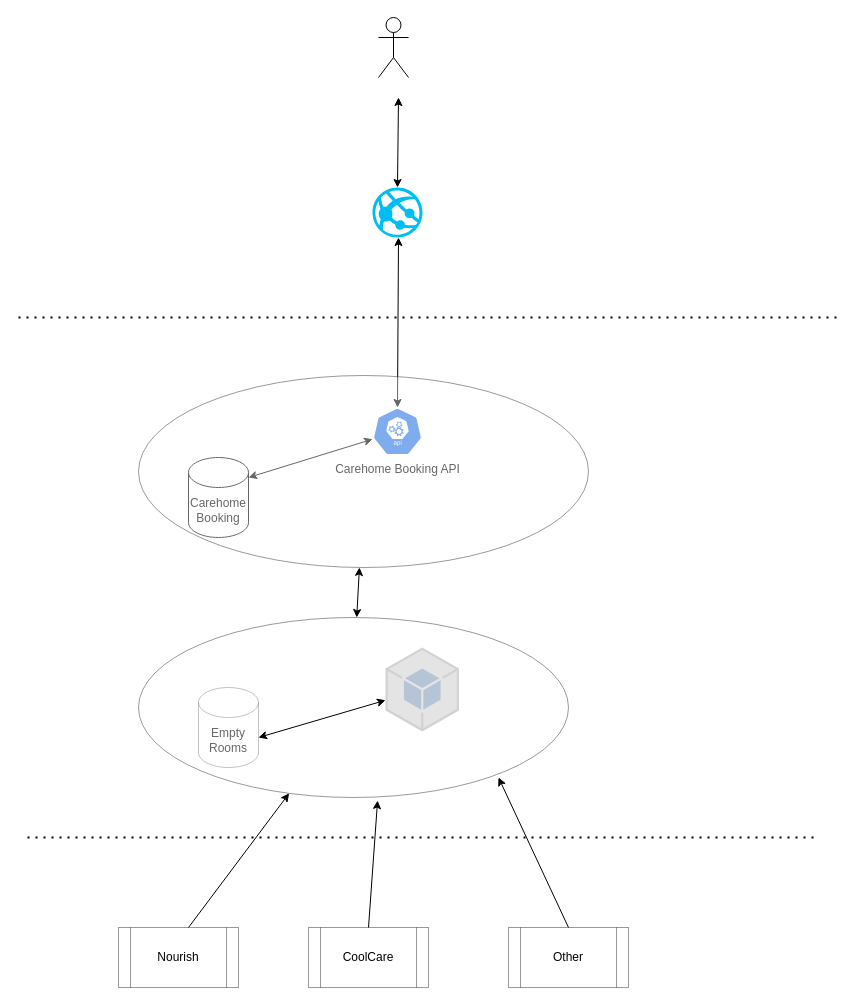
The diagram is 857 pixels wide and 1005 high, and some of its shapes have lost their labels. Each missing label, with the centre of its shape:
Actor: the point at 393,47
Carehome Booking Website: the point at 397,212
